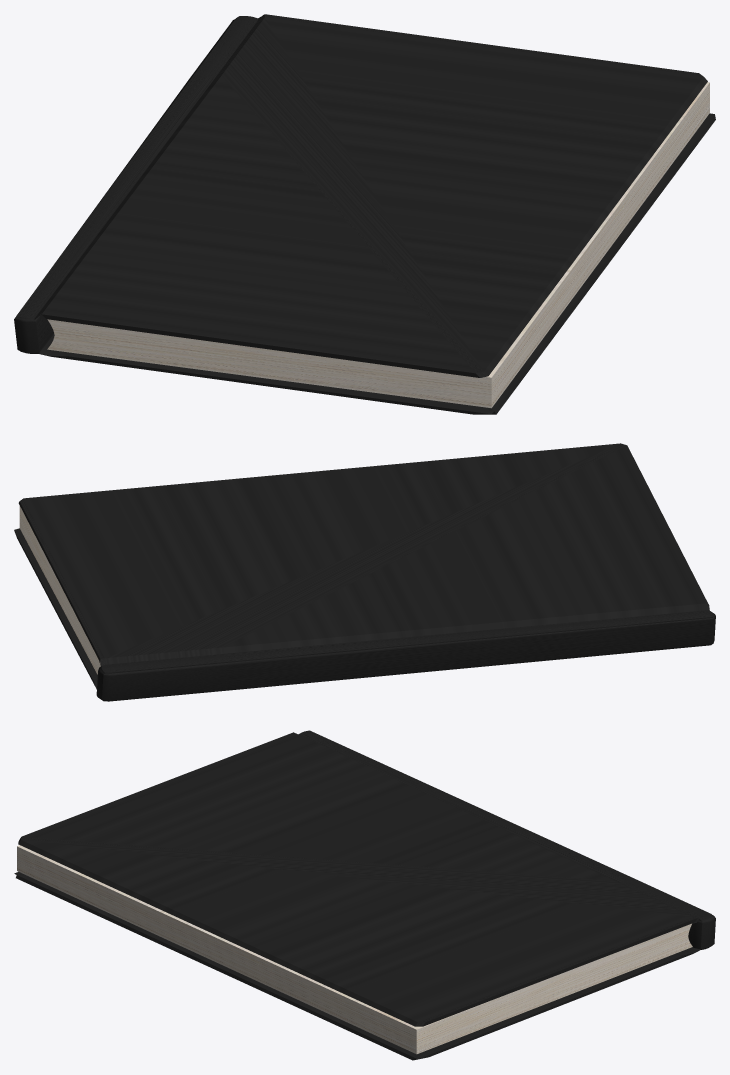
File: Books_Black.fbx
3 views of the same model, one above another, from view 1: azimuth 30°, elevation 25°; view 2: azimuth 150°, elevation 25°; view 3: azimuth 270°, elevation 25° (orthographic). The views are drawn at different scales.
Parts seen in each view (by area): view 1: black_notebook:pCube2; view 2: black_notebook:pCube2; view 3: black_notebook:pCube2.
Part boxes in pixels (left/top/right/bottom): black_notebook:pCube2: left=14, top=14, right=715, bottom=414; black_notebook:pCube2: left=14, top=443, right=715, bottom=701; black_notebook:pCube2: left=14, top=730, right=715, bottom=1060.
Bounding box in the file's own units: 6.09 × 0.3355 × 5.98.
1 material, 1 textured.
